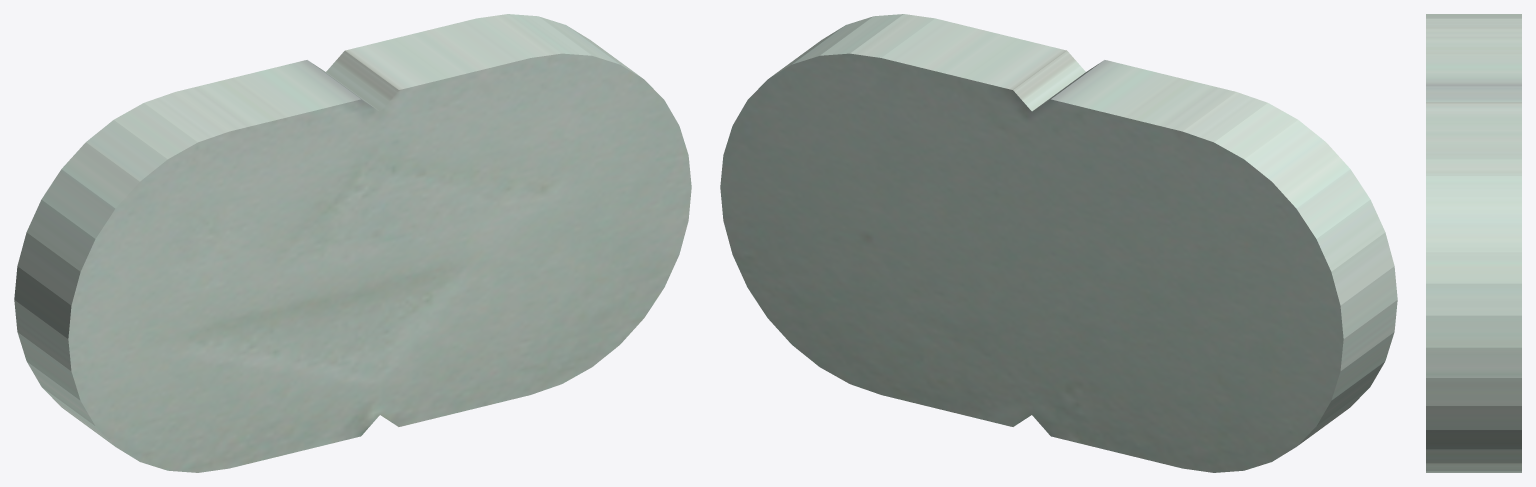
File: 20140311GOPHDRGPT02130.fbx
The picture shows the model from 3 angles, left to right: view 1: azimuth 30°, elevation 25°; view 2: azimuth 150°, elevation 25°; view 3: azimuth 270°, elevation 25°; orthographic projection. The views are drawn at different scales.
Visible parts, largest first — view 1: Cylinder; view 2: Cylinder; view 3: Cylinder.
Boxes of the visible parts, x1=… form: Cylinder: x1=14, y1=14, x2=691, y2=472; Cylinder: x1=720, y1=14, x2=1397, y2=472; Cylinder: x1=1426, y1=14, x2=1521, y2=472.
Size of the model in its own units: 0.994 by 0.5136 by 0.1494.
Materials: 1 (1 with a texture image).
